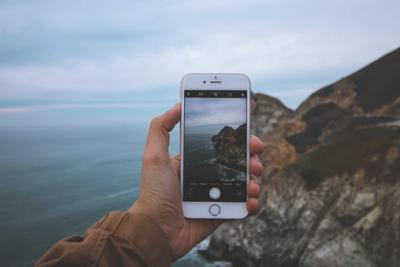Mobile Phone: (178, 71, 251, 220)
